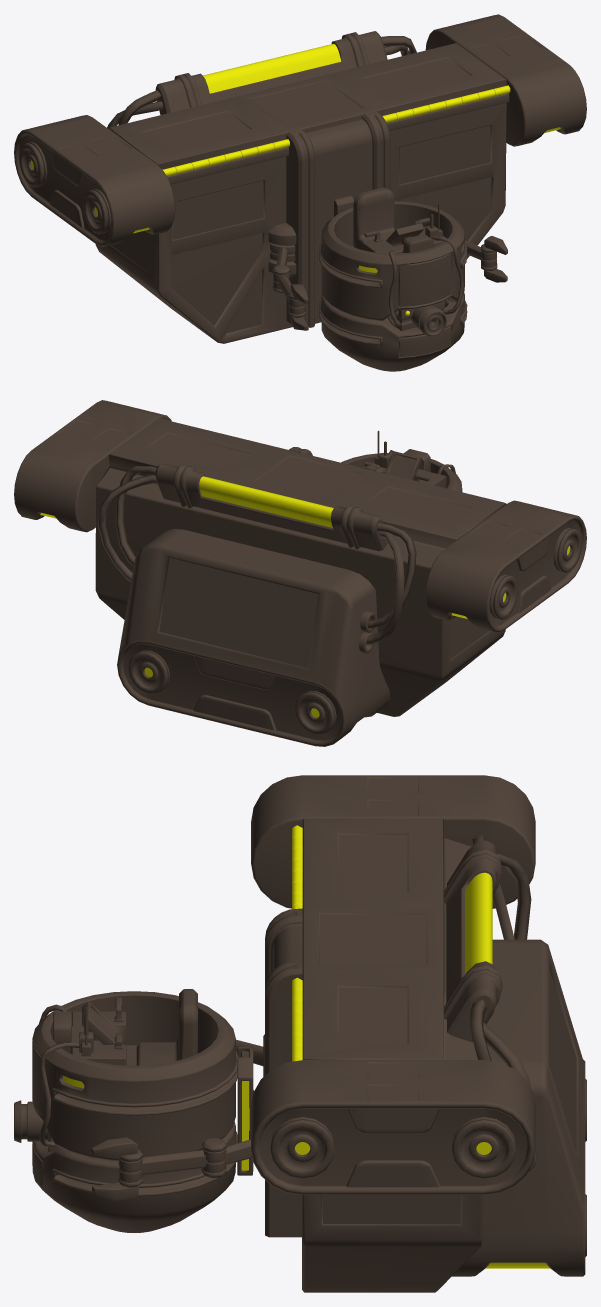
Rendered from cameraman_platform.fbx.
3 views of the same model, one above another, from view 1: azimuth 30°, elevation 25°; view 2: azimuth 150°, elevation 25°; view 3: azimuth 270°, elevation 25° (orthographic). The views are drawn at different scales.
Visible parts, largest first — view 1: cam_pod_base, cam_pod_unit, emission_low, cam_pod_seat, cam_pod_console, cam_pod_large_cables, cam_pod_camera, cam_pod_cables, cam_pod_clamp_L, cam_pod_clamp_R; view 2: cam_pod_base, cam_pod_large_cables, emission_low, cam_pod_console, cam_pod_unit; view 3: cam_pod_base, cam_pod_unit, emission_low, cam_pod_large_cables, cam_pod_console, cam_pod_seat, cam_pod_clamp_L, cam_pod_arm2_L, cam_pod_camera, cam_pod_cables, cam_pod_joint_L, cam_pod_hand_L.
Part boxes in pixels (bbox=[...]): cam_pod_base: bbox=[14, 14, 586, 343]; cam_pod_unit: bbox=[319, 201, 467, 371]; emission_low: bbox=[30, 43, 560, 315]; cam_pod_seat: bbox=[353, 187, 394, 249]; cam_pod_console: bbox=[362, 203, 446, 253]; cam_pod_large_cables: bbox=[107, 36, 416, 128]; cam_pod_camera: bbox=[397, 300, 446, 336]; cam_pod_cables: bbox=[388, 236, 463, 328]; cam_pod_clamp_L: bbox=[484, 236, 507, 282]; cam_pod_clamp_R: bbox=[290, 284, 308, 330]; cam_pod_base: bbox=[14, 400, 586, 746]; cam_pod_large_cables: bbox=[97, 466, 416, 645]; emission_low: bbox=[40, 476, 570, 717]; cam_pod_console: bbox=[374, 430, 446, 488]; cam_pod_unit: bbox=[341, 453, 462, 491]; cam_pod_base: bbox=[237, 775, 586, 1292]; cam_pod_unit: bbox=[32, 991, 238, 1232]; emission_low: bbox=[63, 825, 550, 1268]; cam_pod_large_cables: bbox=[469, 835, 531, 1087]; cam_pod_console: bbox=[53, 1001, 126, 1065]; cam_pod_seat: bbox=[136, 989, 197, 1065]; cam_pod_clamp_L: bbox=[91, 1137, 138, 1200]; cam_pod_arm2_L: bbox=[140, 1150, 207, 1175]; cam_pod_camera: bbox=[14, 1100, 58, 1151]; cam_pod_cables: bbox=[39, 1004, 79, 1147]; cam_pod_joint_L: bbox=[201, 1138, 226, 1178]; cam_pod_hand_L: bbox=[118, 1149, 142, 1187].
Bounding box in the file's own units: 894 × 389 × 655.
